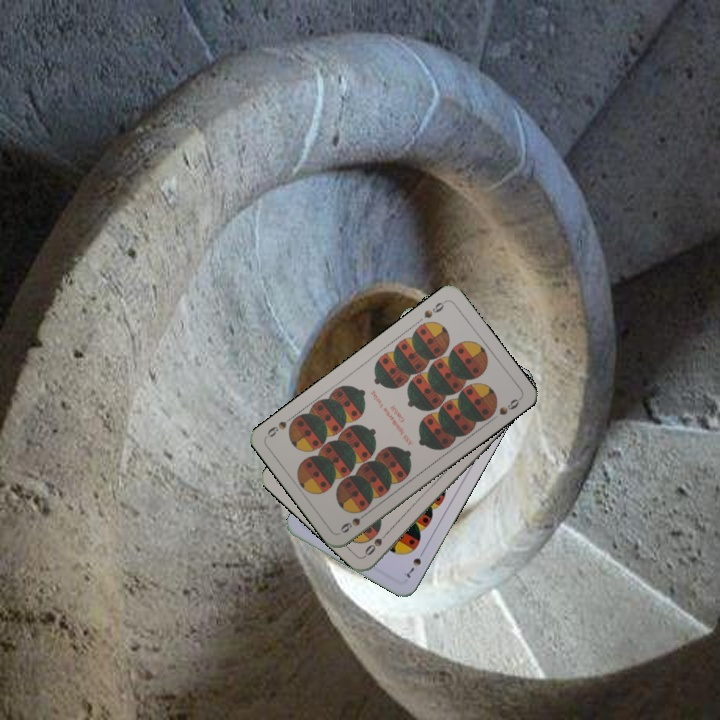S7: (402, 545, 428, 581)
S9: (336, 505, 372, 536), (420, 297, 449, 321)
SO: (360, 526, 393, 558)
